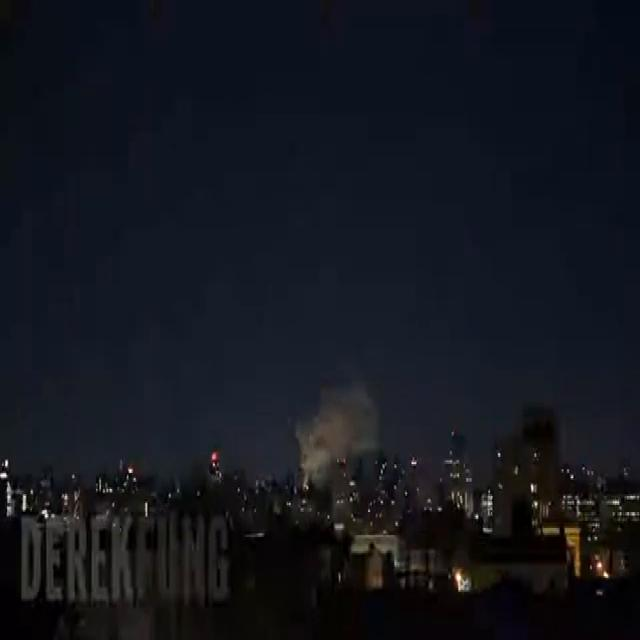smoke: (295, 354, 381, 484)
